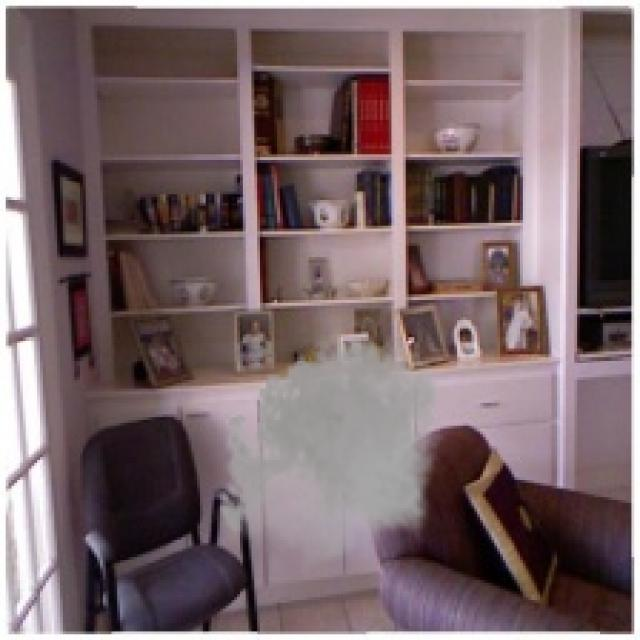smoke: (212, 323, 448, 574)
